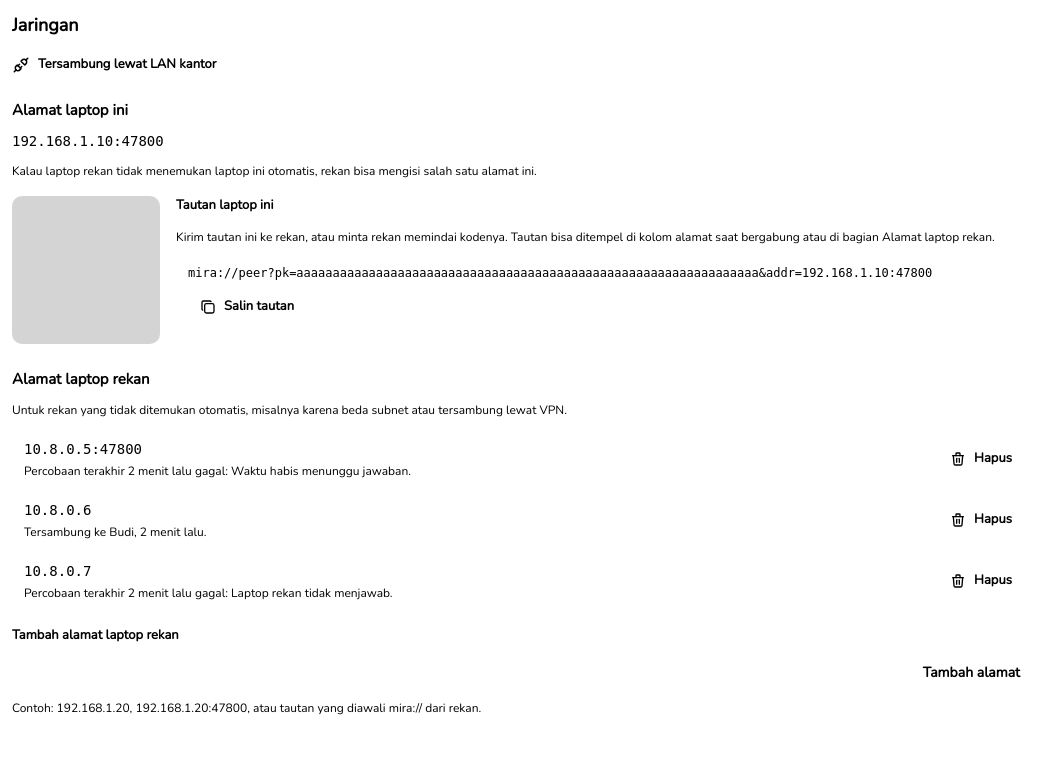
Test case: Pengaturan > Jaringan › menampilkan hasil percobaan terakhir dan bisa menghapus alamat
Check: the text "Percobaan terakhir 2 menit lalu gagal: Waktu habis menunggu jawaban." is shown, box [24,462,411,478]
Check: the text "Percobaan terakhir 2 menit lalu gagal: Laptop rekan tidak menjawab." is shown, box [24,584,392,600]
What coordinates should you click on to do the following:
click the button with aria-label "Hapus alamat 10.8.0.5:47800"
I would click on:
 (981, 459)
Its box is [938,442,1024,476].
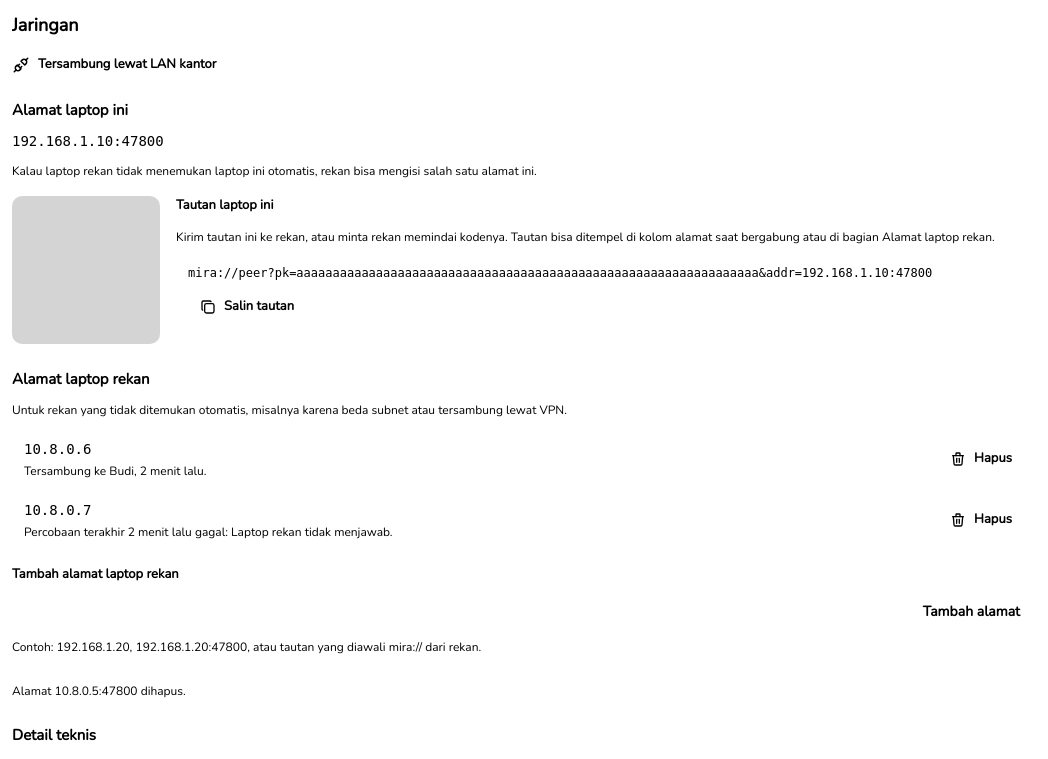
Check: the text "Alamat 10.8.0.5:47800 dihapus." is shown, box [12,683,186,699]
